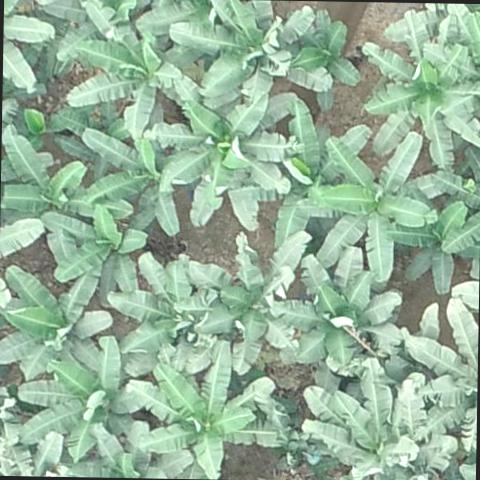Banana-plant: (151, 78, 292, 232), (128, 340, 280, 480), (178, 224, 316, 376), (363, 5, 480, 171), (272, 248, 409, 382), (301, 364, 456, 480), (314, 128, 426, 284), (168, 0, 331, 107), (18, 338, 155, 460), (262, 98, 371, 250), (67, 29, 205, 139), (108, 246, 216, 368), (0, 267, 114, 382), (84, 120, 188, 238), (405, 298, 479, 452), (0, 130, 87, 244), (41, 203, 148, 295), (384, 196, 474, 298), (294, 9, 359, 114)
